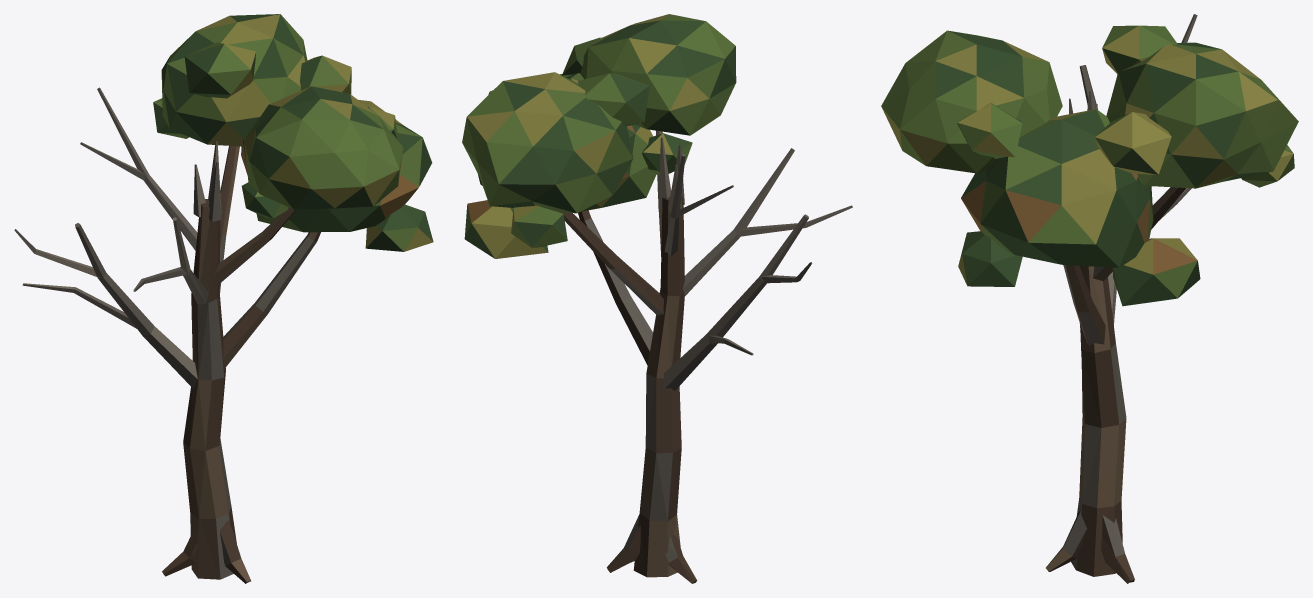
The model's file is tree_c.fbx.
3 renders of one model, left to right at view 1: azimuth 30°, elevation 25°; view 2: azimuth 150°, elevation 25°; view 3: azimuth 270°, elevation 25°, orthographic. The views are drawn at different scales.
Parts seen in each view (by area): view 1: tree_c; view 2: tree_c; view 3: tree_c.
Part boxes in pixels (bbox=[...]): tree_c: bbox=[14, 14, 433, 583]; tree_c: bbox=[462, 14, 852, 583]; tree_c: bbox=[881, 14, 1298, 583].
Bounding box in the file's own units: 3.3 × 4.34 × 2.96.
